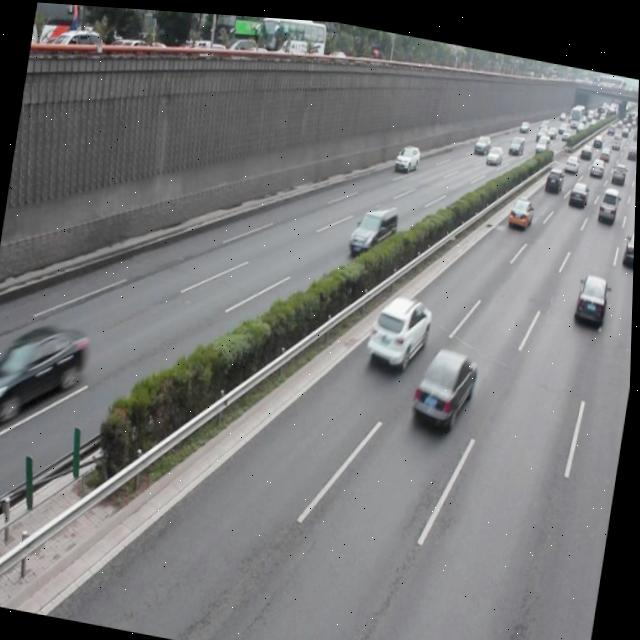car: (0, 314, 91, 426), (406, 335, 480, 432), (364, 281, 435, 369), (572, 262, 610, 319), (621, 219, 636, 262)
truck: (347, 192, 400, 255)
